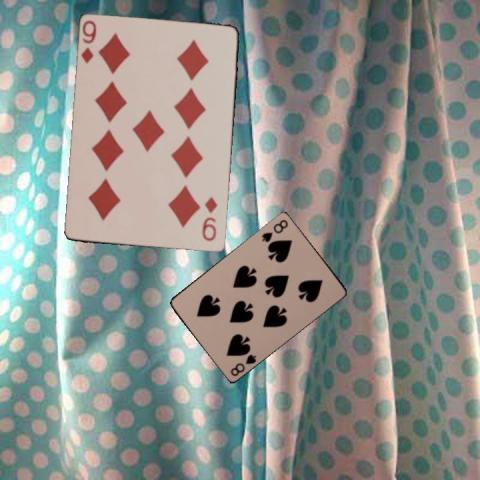8s: (259, 216, 289, 243), (227, 351, 258, 377)
9d: (200, 194, 219, 243), (79, 18, 98, 65)
